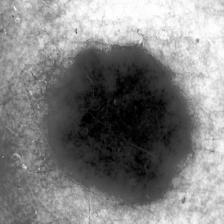Benign Marking or Mole: (56, 48, 190, 198)
